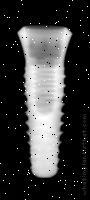Cowellmedi: (17, 26, 72, 179)
